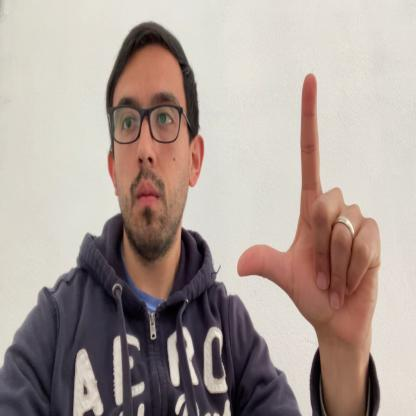L: (236, 72, 380, 348)
